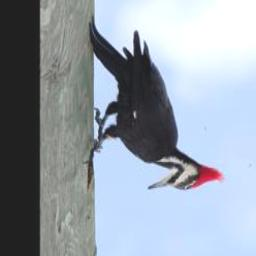Woodpecker: (84, 17, 225, 192)
